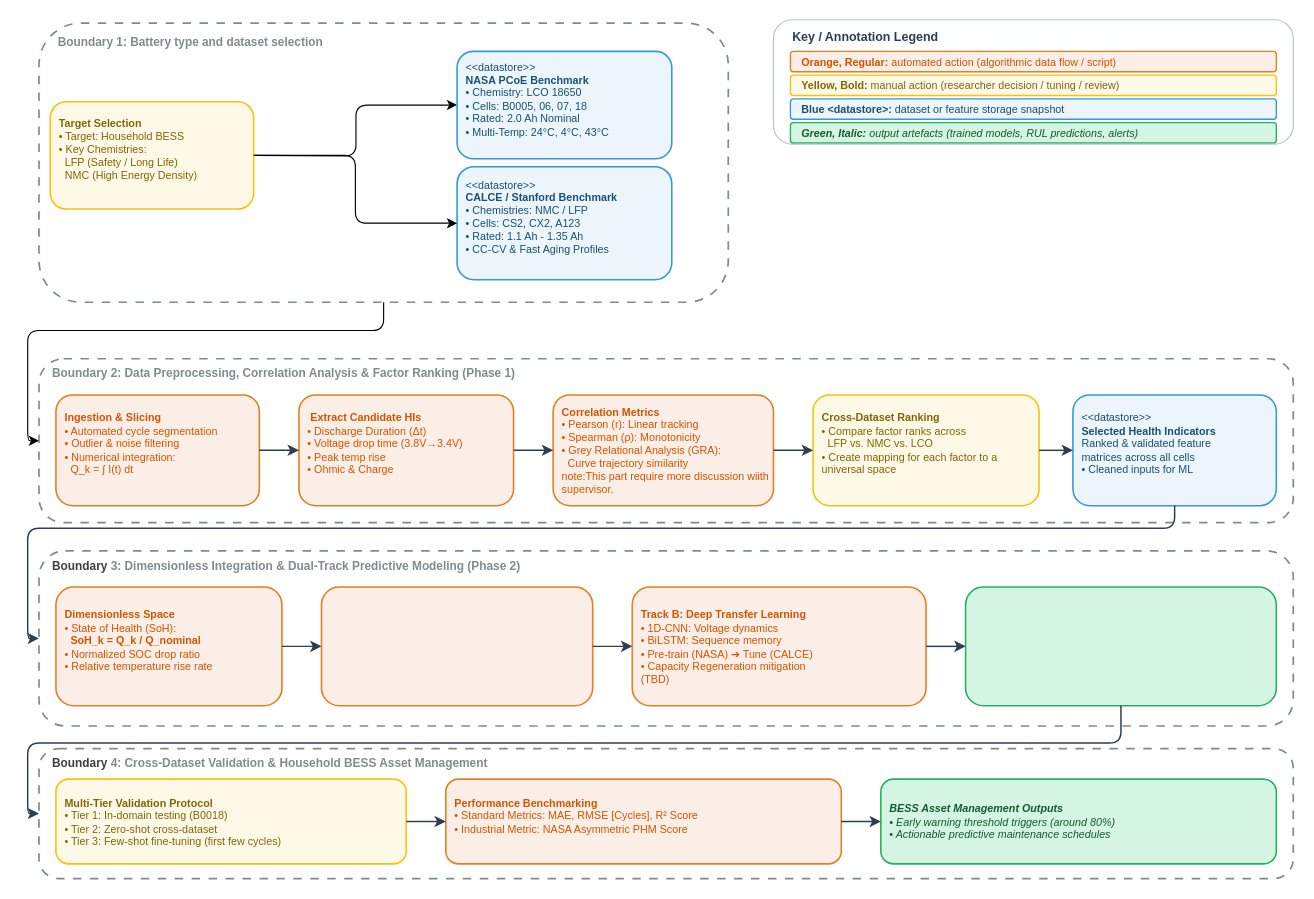
Some shapes in this 1314 by 899 pixel diagram are drawn without their labels. The centre of each missing label's shape, as x and y in pixels:
"Track A: Machine Learning • Random Forest (TBD)" belongs at pixel 456 646.
"Trained Model Weights • Model would be trained by open source code or package" belongs at pixel 1120 646.
